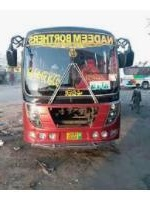bus: (7, 26, 135, 148)
